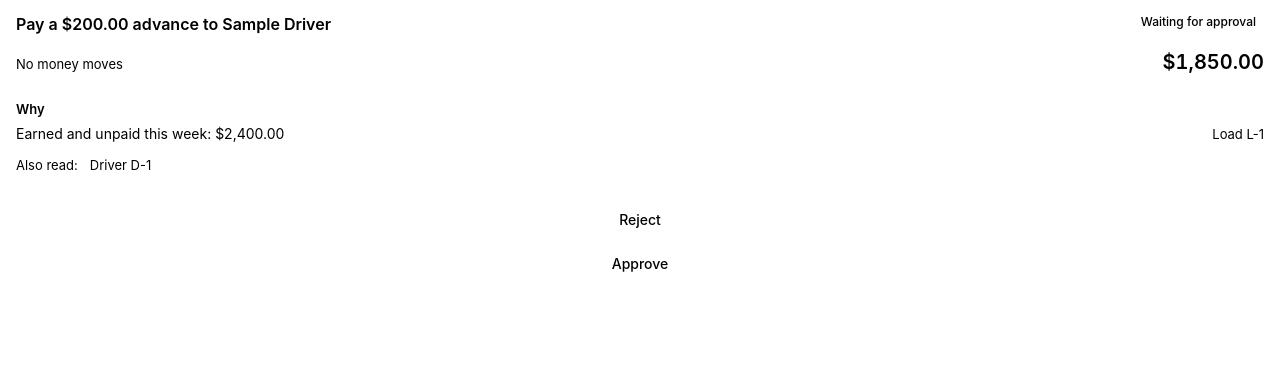
ProposalCard › shows the amount a no-money move carries but leaves it off Approve
Expected: the text "No money moves" is shown, [16, 55, 123, 73]
Click the button "Approve": (640, 264) [16, 246, 1264, 282]
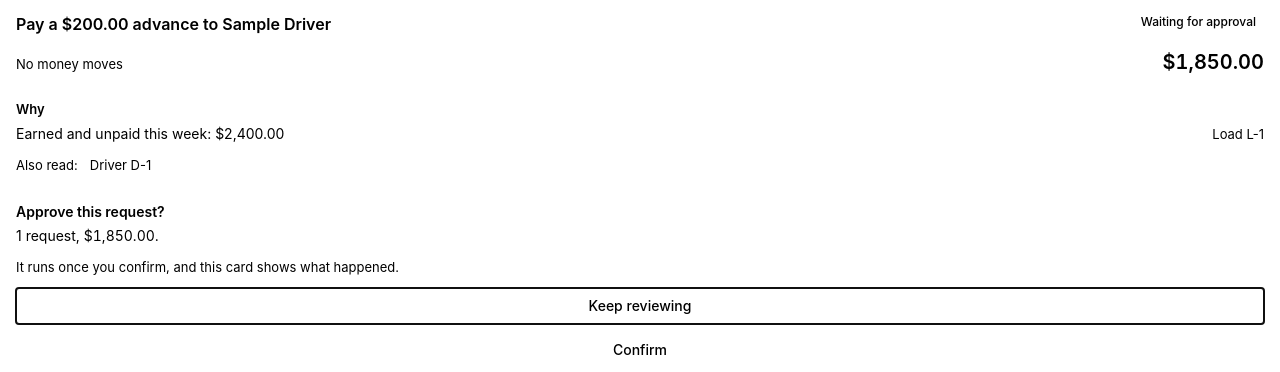
Now the text "Approve this request?" is shown, box [16, 203, 165, 220]
